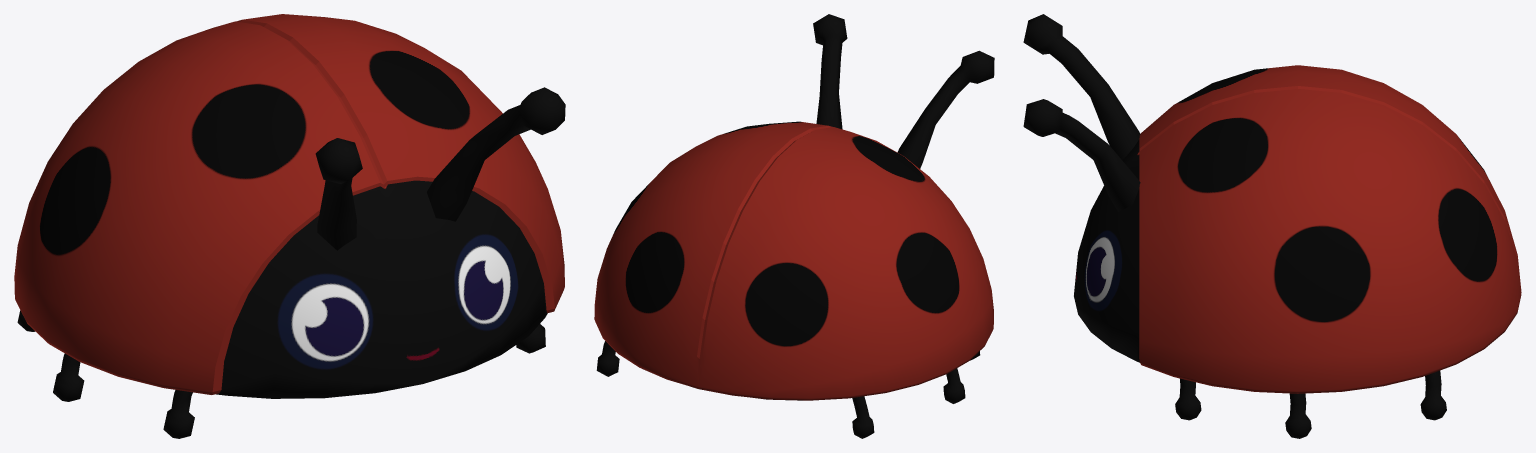
File: ladybug.fbx
The picture shows the model from 3 angles, left to right: view 1: azimuth 30°, elevation 25°; view 2: azimuth 150°, elevation 25°; view 3: azimuth 270°, elevation 25°; orthographic projection. The views are drawn at different scales.
Parts seen in each view (by area): view 1: ladybug; view 2: ladybug; view 3: ladybug.
Boxes of the visible parts, x1,y1,x2,y2 form: ladybug: (14,14,565,438); ladybug: (594,14,994,438); ladybug: (1023,14,1521,438).
Size of the model in its own units: 210 by 144 by 222.
